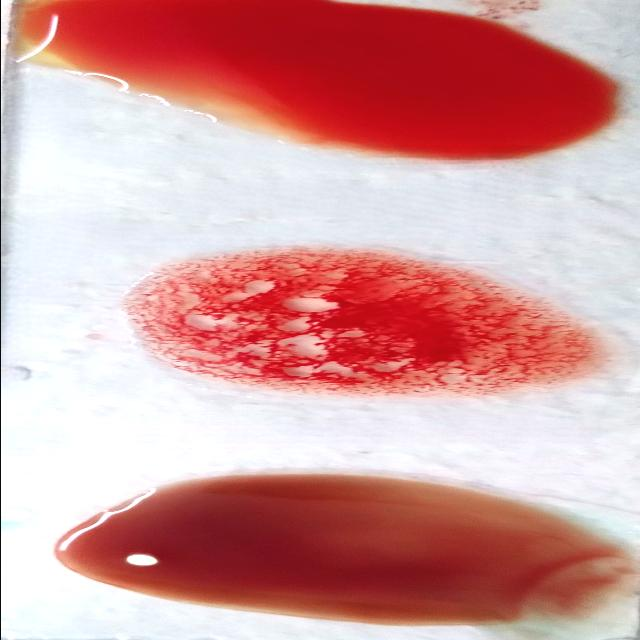D: (130, 249, 575, 389)
